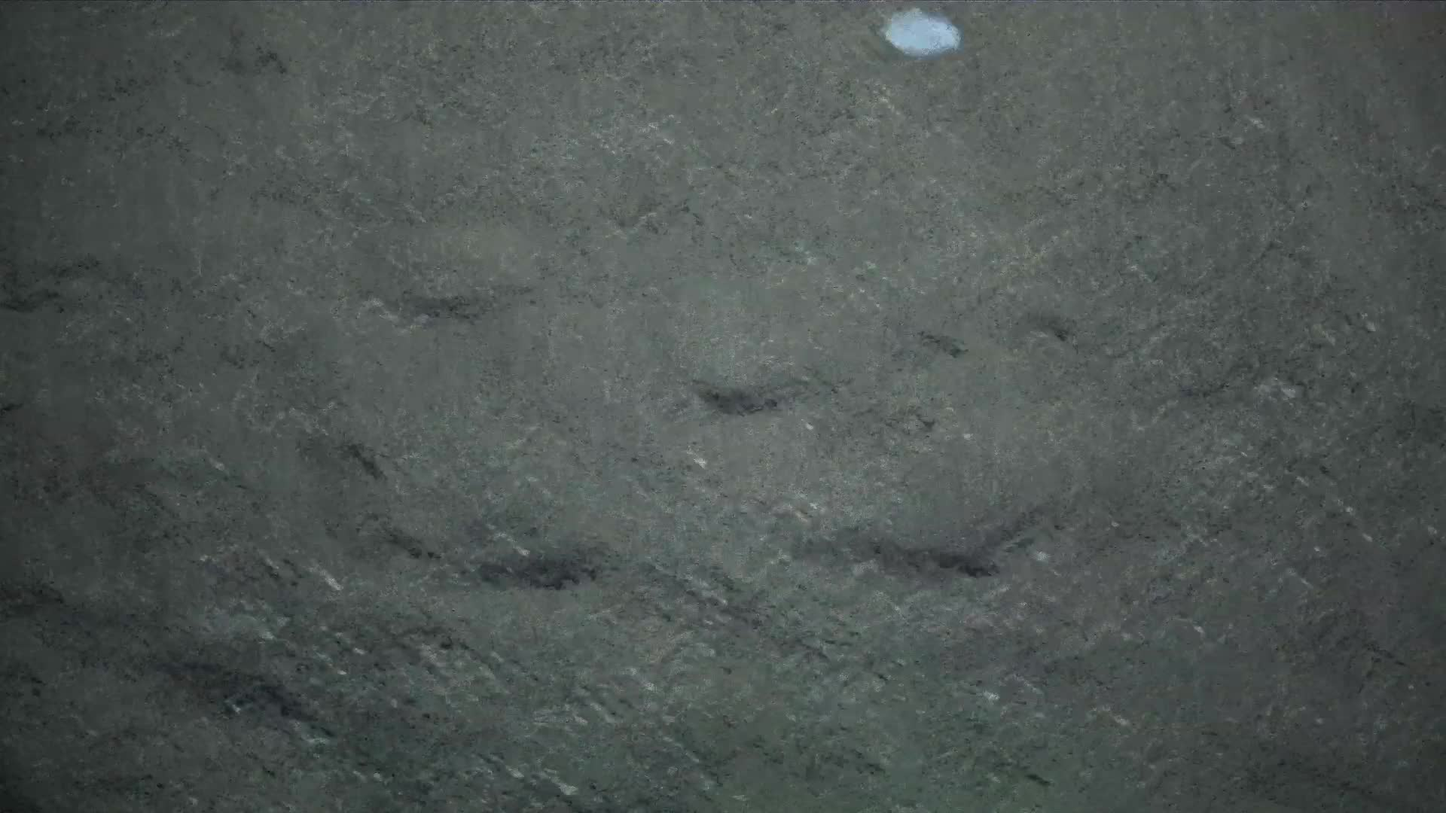Target: (880, 5, 964, 59)
